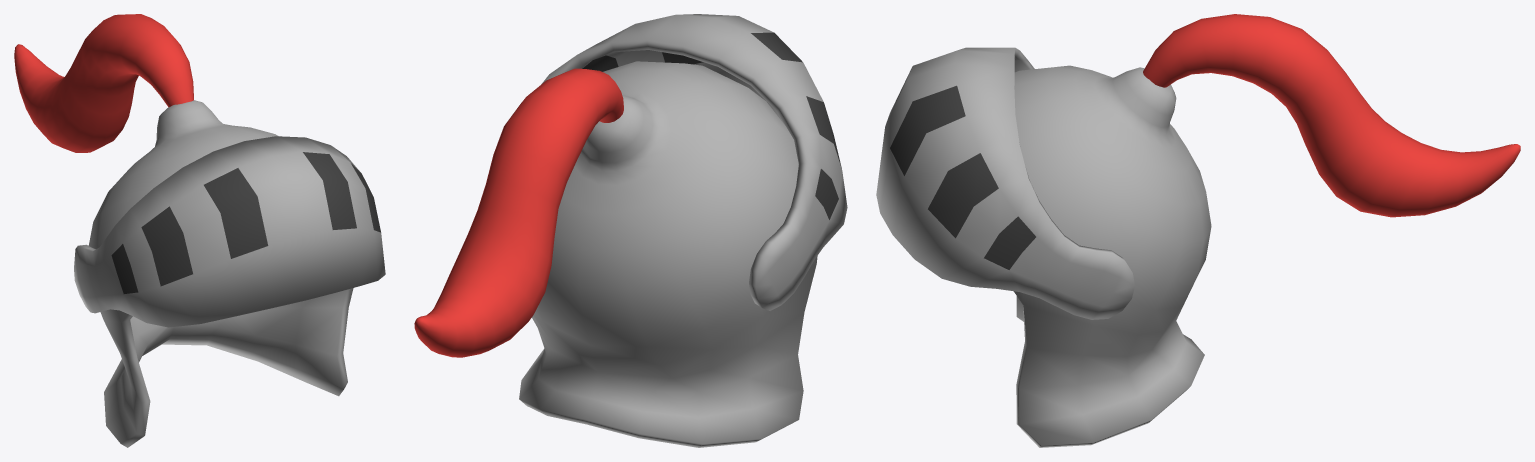
Rendered from KnightHelmet.fbx.
3 views of the same model, side by side, from view 1: azimuth 30°, elevation 25°; view 2: azimuth 150°, elevation 25°; view 3: azimuth 270°, elevation 25° (orthographic). The views are drawn at different scales.
Parts seen in each view (by area): view 1: KnightHelmet; view 2: KnightHelmet; view 3: KnightHelmet.
Part boxes in pixels (x1,y1,x2,y2): KnightHelmet: (14, 14, 385, 447); KnightHelmet: (414, 14, 847, 447); KnightHelmet: (876, 14, 1520, 447).
Size of the model in its own units: 31.88 by 40.71 by 63.39.
